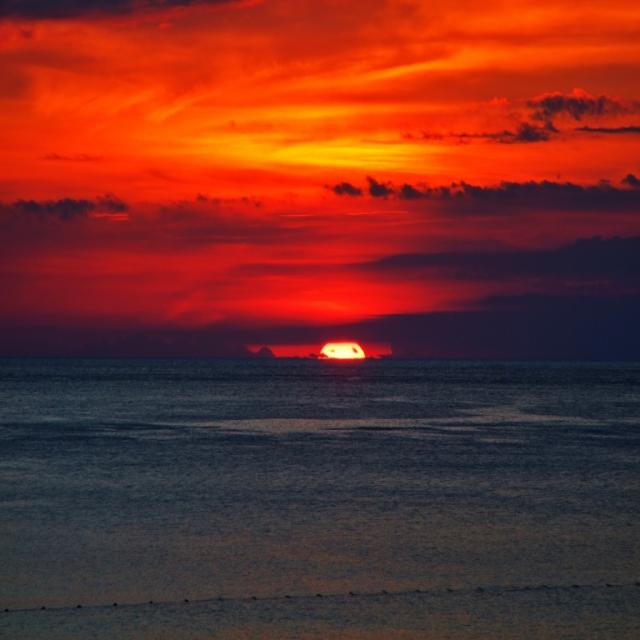no_fire: (0, 54, 640, 270), (255, 282, 491, 454)
